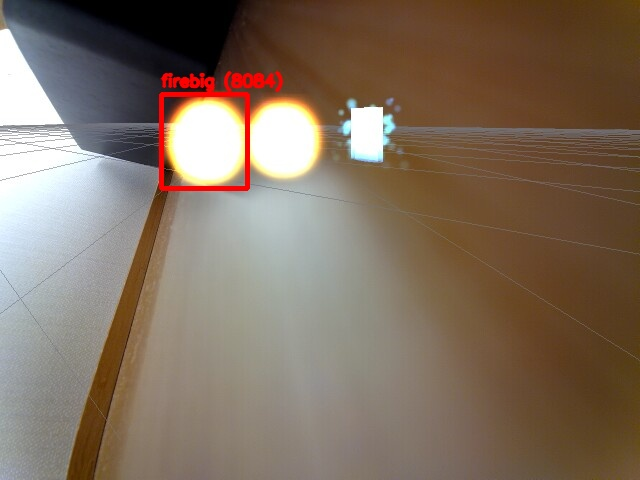firebig: (161, 94, 247, 188)
